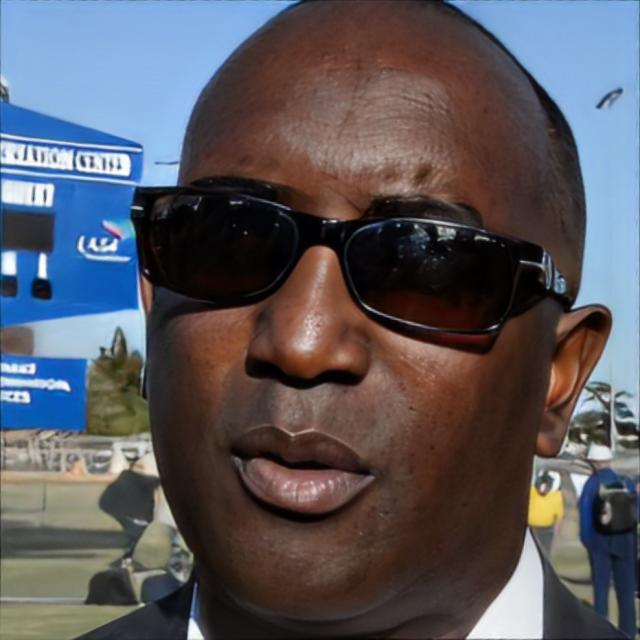neutral: (145, 36, 557, 624)
